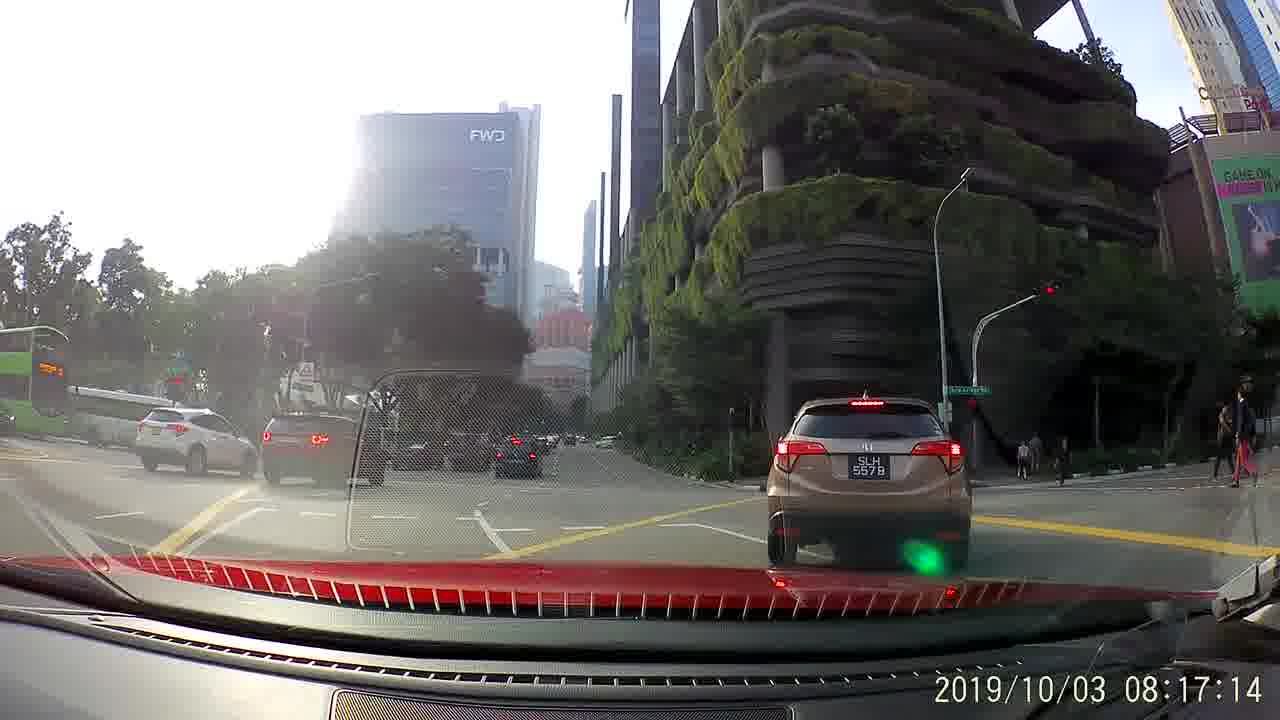bus: (1, 325, 68, 441)
car: (758, 388, 972, 573), (259, 401, 393, 494), (133, 401, 261, 484), (66, 381, 189, 452), (493, 435, 544, 479), (389, 439, 447, 476), (592, 436, 619, 452)
